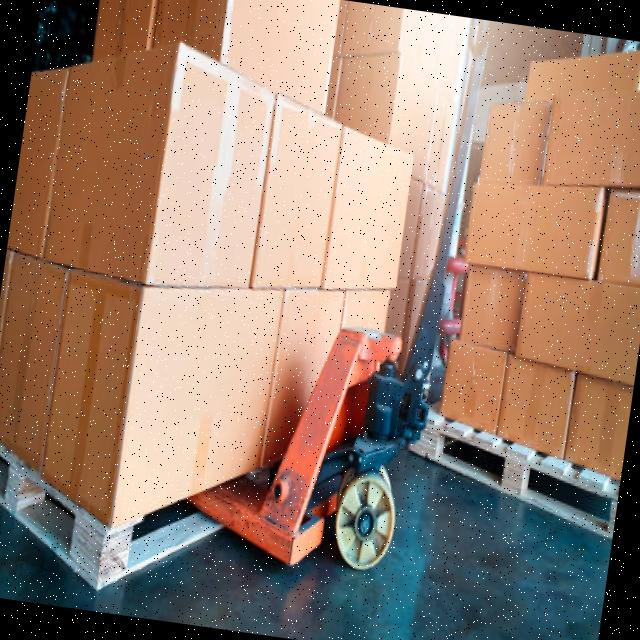Wooden-Pallets: (0, 445, 225, 592), (409, 414, 621, 543)
